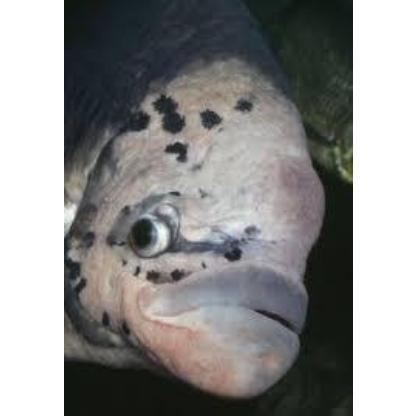gurame: (63, 0, 326, 400)
